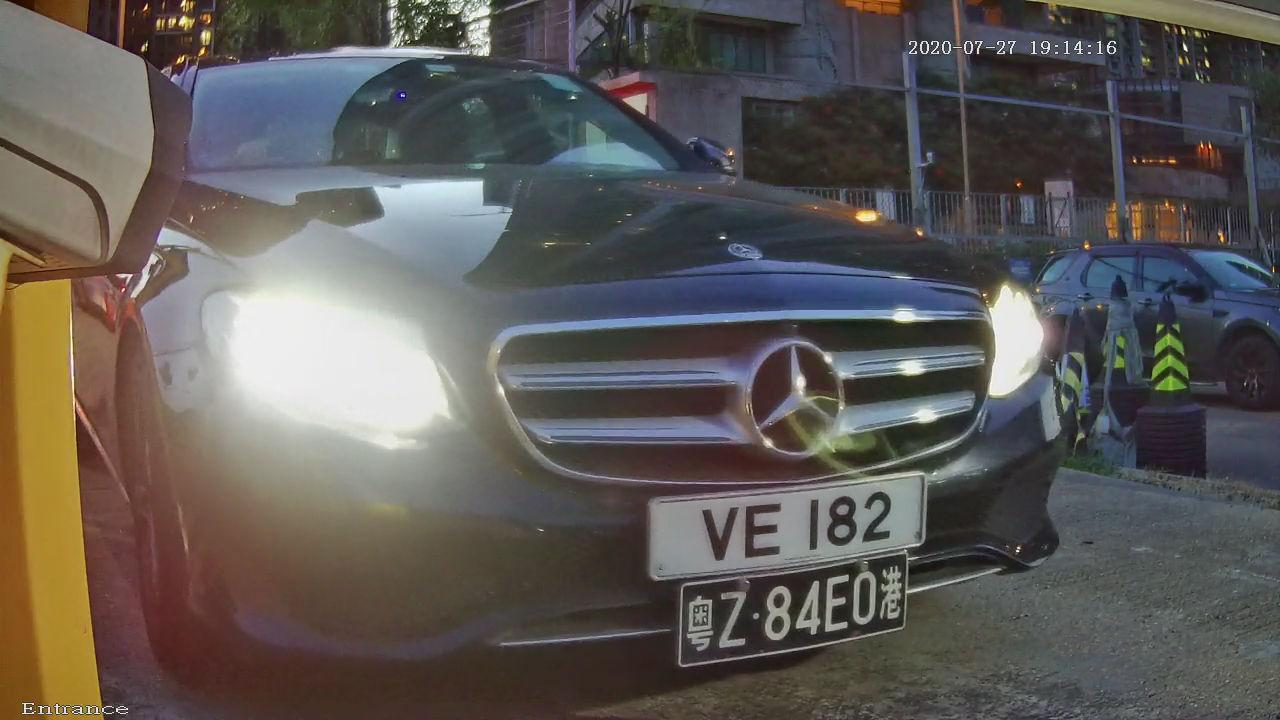privatecar: (155, 33, 1041, 672)
